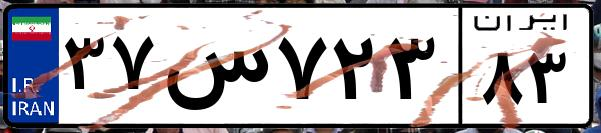2: (330, 28, 385, 110)
3: (385, 28, 445, 110), (57, 26, 110, 100), (525, 38, 570, 115)
7: (270, 28, 330, 110), (110, 28, 158, 98)
8: (475, 38, 525, 113)
س: (158, 20, 270, 120)
